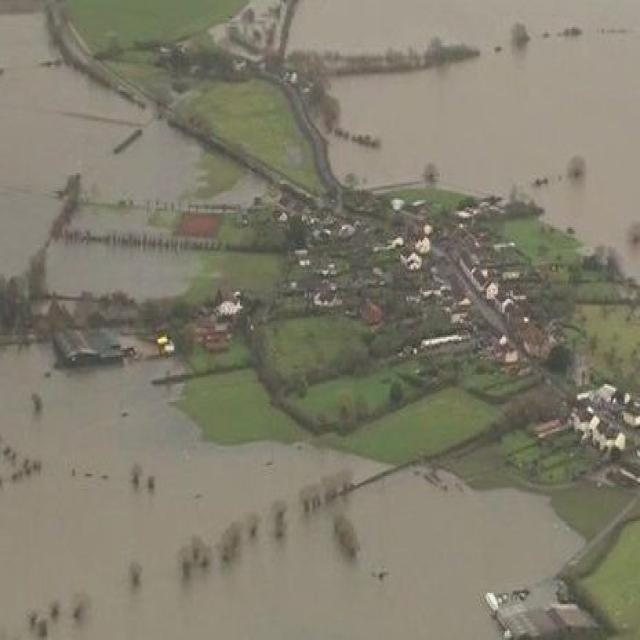flooded_areas: (0, 90, 510, 638), (306, 22, 639, 280)
